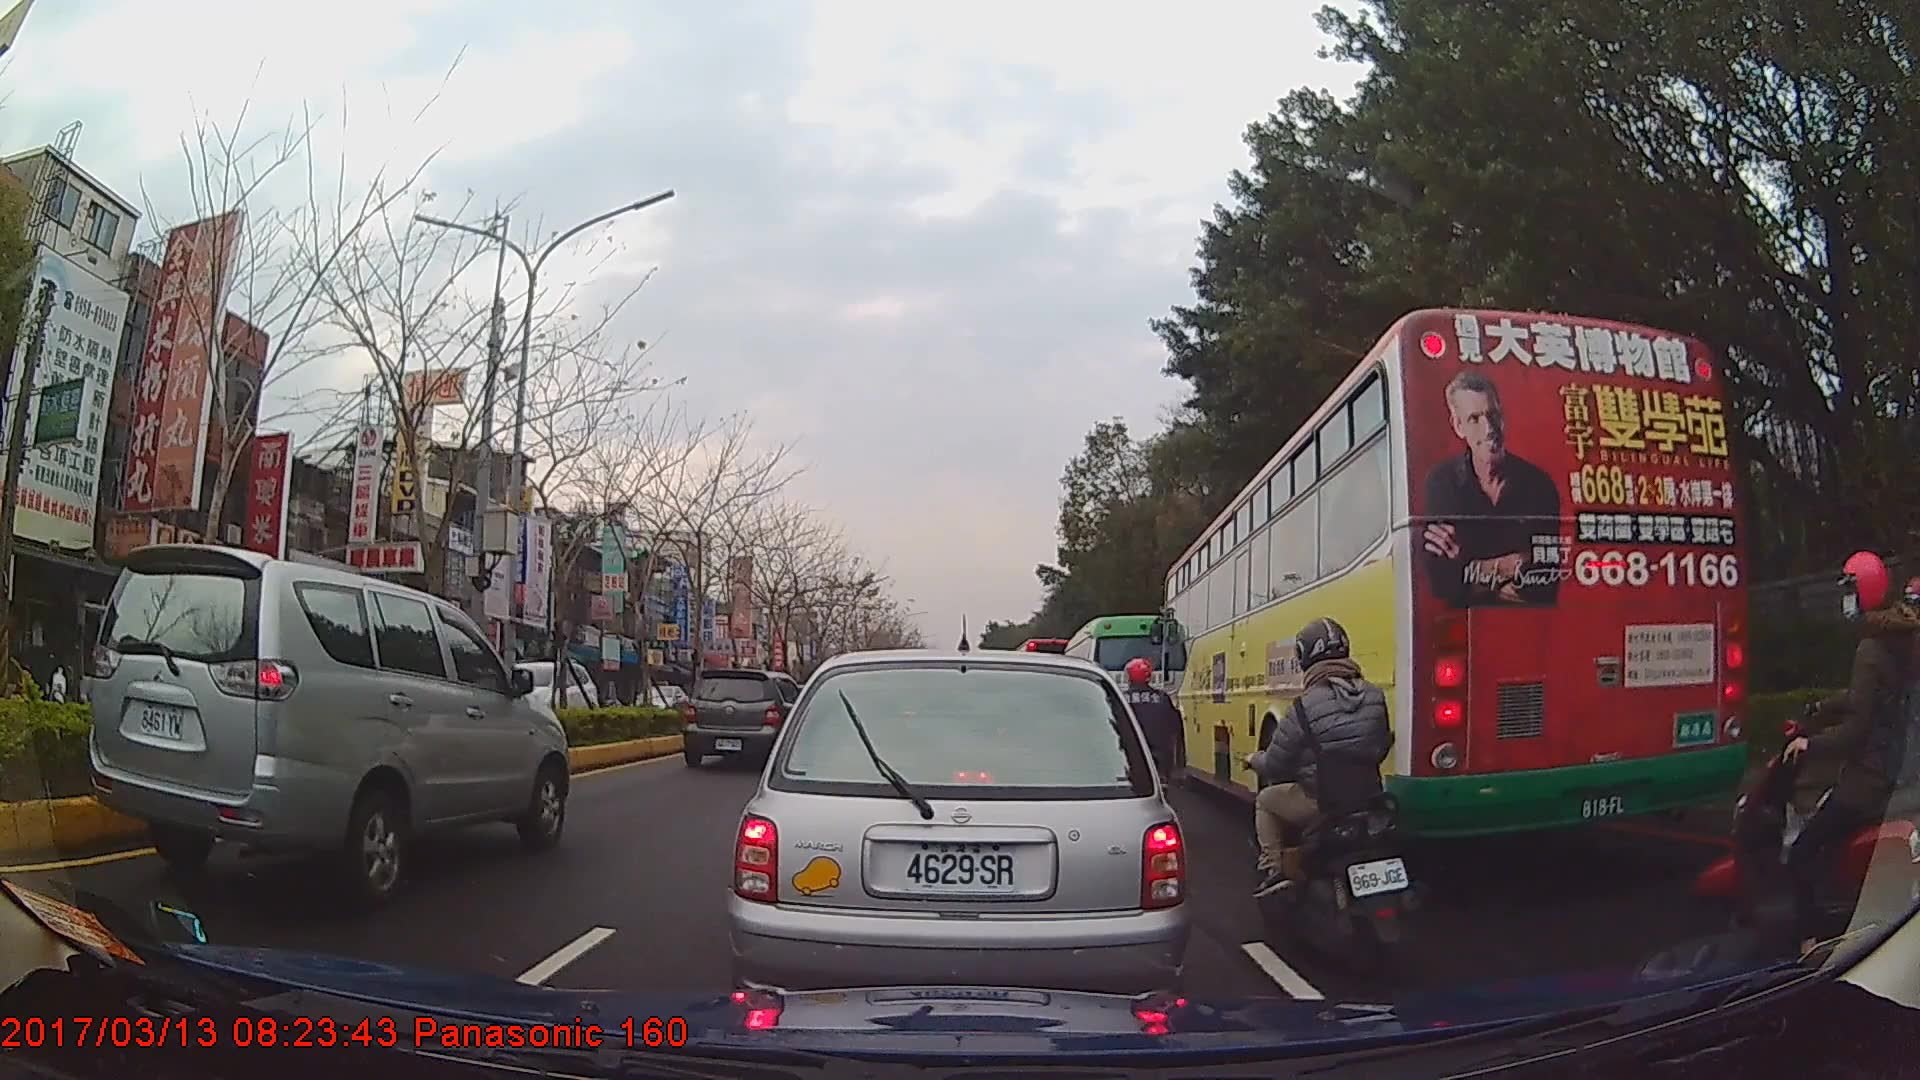rider: (1690, 556, 1912, 971), (1247, 611, 1409, 972), (1105, 657, 1182, 811)
vehicle: (1160, 304, 1751, 855), (83, 542, 566, 902), (730, 645, 1188, 1020), (1063, 613, 1194, 766), (682, 670, 803, 772), (469, 657, 599, 739), (625, 681, 687, 723)
